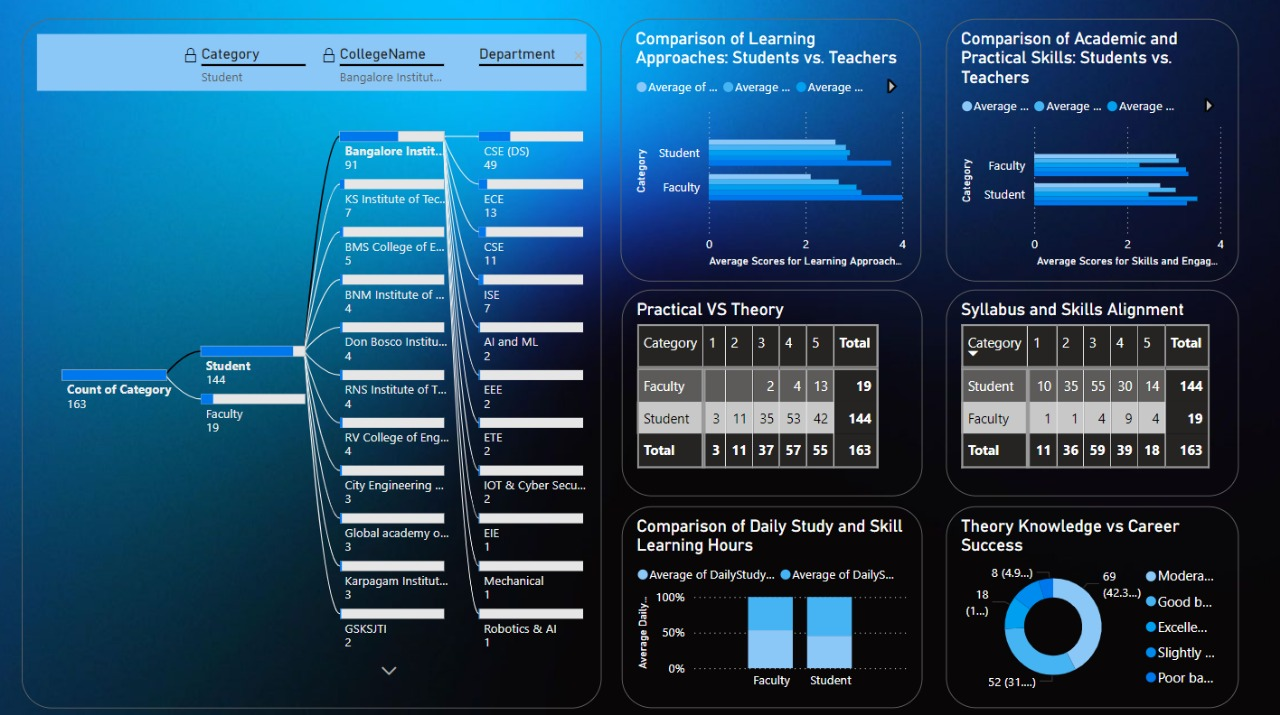

This screenshot's page, from the dashboard's own definition file:
{"tool":"powerbi","page":{"name":"Page 4","canvas":[1280,720],"ordinal":1},"visuals":[{"type":"decompositionTreeVisual","fields":{"Analyze":["CountNonNull(StudentFaculty.Category)"],"ExplainBy":["StudentFaculty.Category","StudentFaculty.CollegeName","StudentFaculty.Department"]},"box":[22.4,21.1,578.4,675.5],"z":0},{"type":"clusteredBarChart","title":"Comparison of Academic and Practical Skills: Students vs. Teachers","fields":{"Y":["Avg(StudentFaculty.SyllabusUnderstanding)","Avg(StudentFaculty.ExamPreparation)","Avg(StudentFaculty.PracticalSkills)","Avg(StudentFaculty.ExtraCurricularEngagement)","Avg(StudentFaculty.HackathonParticipation)"],"Category":["StudentFaculty.Category"]},"box":[944.2,21.1,292.3,271.2],"z":1000},{"type":"clusteredBarChart","title":"Comparison of Learning Approaches: Students vs. Teachers","fields":{"Y":["Avg(StudentFaculty.TheoryConceptUnderstanding)","Avg(StudentFaculty.ApplyingTheoryPractically)","Avg(StudentFaculty.HandsOn_LabWorkshop_Exp)","Avg(StudentFaculty.ProjectBasedLearning)","Avg(StudentFaculty.CaseStudy_RealLife_Eg)"],"Category":["StudentFaculty.Category"]},"box":[619.5,21.1,299.8,271.2],"z":2000},{"type":"donutChart","title":"Theory Knowledge vs Career Success","fields":{"Category":["StudentFaculty.Balance_of_TheoryKnowledge_on_CS"],"Y":["CountNonNull(StudentFaculty.Balance_of_TheoryKnowledge_on_CS)"]},"box":[944.2,495.1,292.3,201.5],"z":3000},{"type":"pivotTable","fields":{"Columns":["StudentFaculty.PracticalVsTheory_for_JobPrep"],"Rows":["StudentFaculty.Category"],"Values":["CountNonNull(StudentFaculty.PracticalVsTheory_for_JobPrep)"]},"box":[619.5,302.3,299.8,182.9],"z":4000},{"type":"pivotTable","fields":{"Columns":["StudentFaculty.Syllabus_CareerSkills_Alignment"],"Rows":["StudentFaculty.Category"],"Values":["CountNonNull(StudentFaculty.Syllabus_CareerSkills_Alignment)"]},"box":[944.2,302.3,292.3,182.9],"z":5000},{"type":"hundredPercentStackedColumnChart","title":"Comparison of Daily Study and Skill Learning Hours","fields":{"Category":["StudentFaculty.Category"],"Y":["Avg(StudentFaculty.DailyStudyHours)","Avg(StudentFaculty.DailySkillLearningHours)"]},"box":[619.5,495.1,299.8,201.5],"z":6000}]}

Visuals, with their boxes in screenshot pixels (x1, y1, x2, y2), scaled from the page's 1280x720 canvas onto the 1280x715 screenshot:
decompositionTreeVisual - CountNonNull(StudentFaculty.Category) x StudentFaculty.Category: <bbox>22, 21, 601, 692</bbox>
"Comparison of Academic and Practical Skills: Students vs. Teachers" clusteredBarChart: <bbox>944, 21, 1236, 290</bbox>
"Comparison of Learning Approaches: Students vs. Teachers" clusteredBarChart: <bbox>620, 21, 919, 290</bbox>
"Theory Knowledge vs Career Success" donutChart: <bbox>944, 492, 1236, 692</bbox>
pivotTable - StudentFaculty.PracticalVsTheory_for_JobPrep x StudentFaculty.Category: <bbox>620, 300, 919, 482</bbox>
pivotTable - StudentFaculty.Syllabus_CareerSkills_Alignment x StudentFaculty.Category: <bbox>944, 300, 1236, 482</bbox>
"Comparison of Daily Study and Skill Learning Hours" hundredPercentStackedColumnChart: <bbox>620, 492, 919, 692</bbox>
